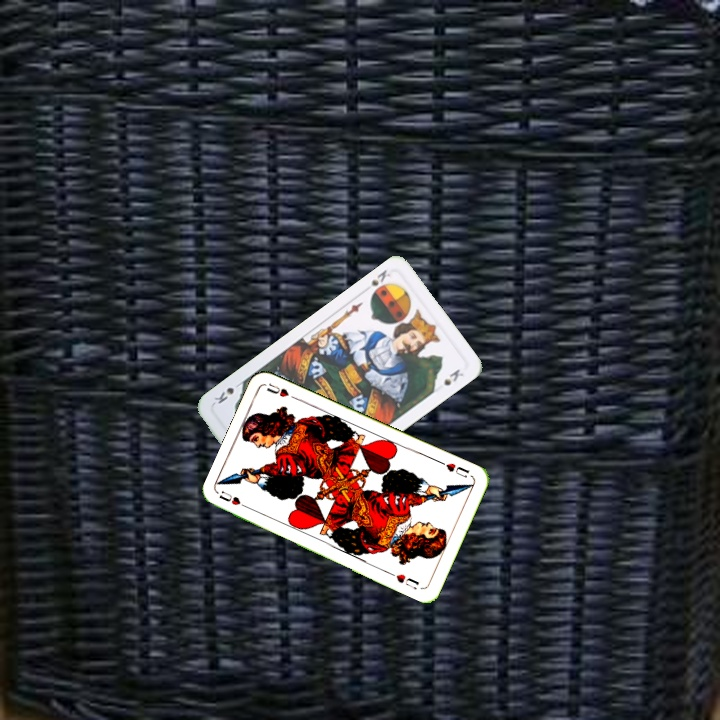HU: (215, 487, 253, 512), (442, 459, 472, 480)
SK: (366, 265, 393, 289)
